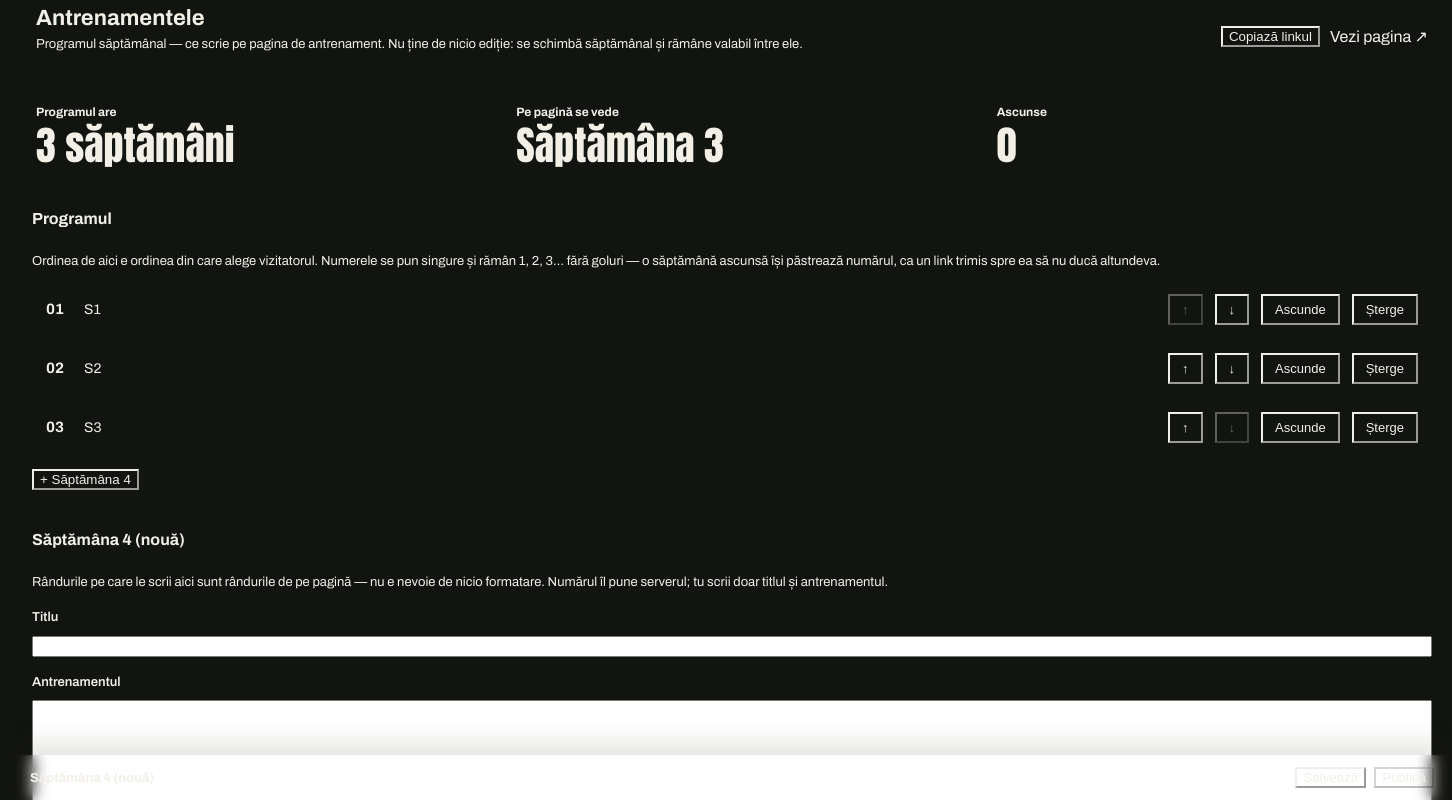
Scenario: editarea unei săptămâni › apăsarea pe o săptămână o pune în editor
Step 1. Click the button "S2" → (93, 368), box [84,355,1156,382]
(page scrolled)
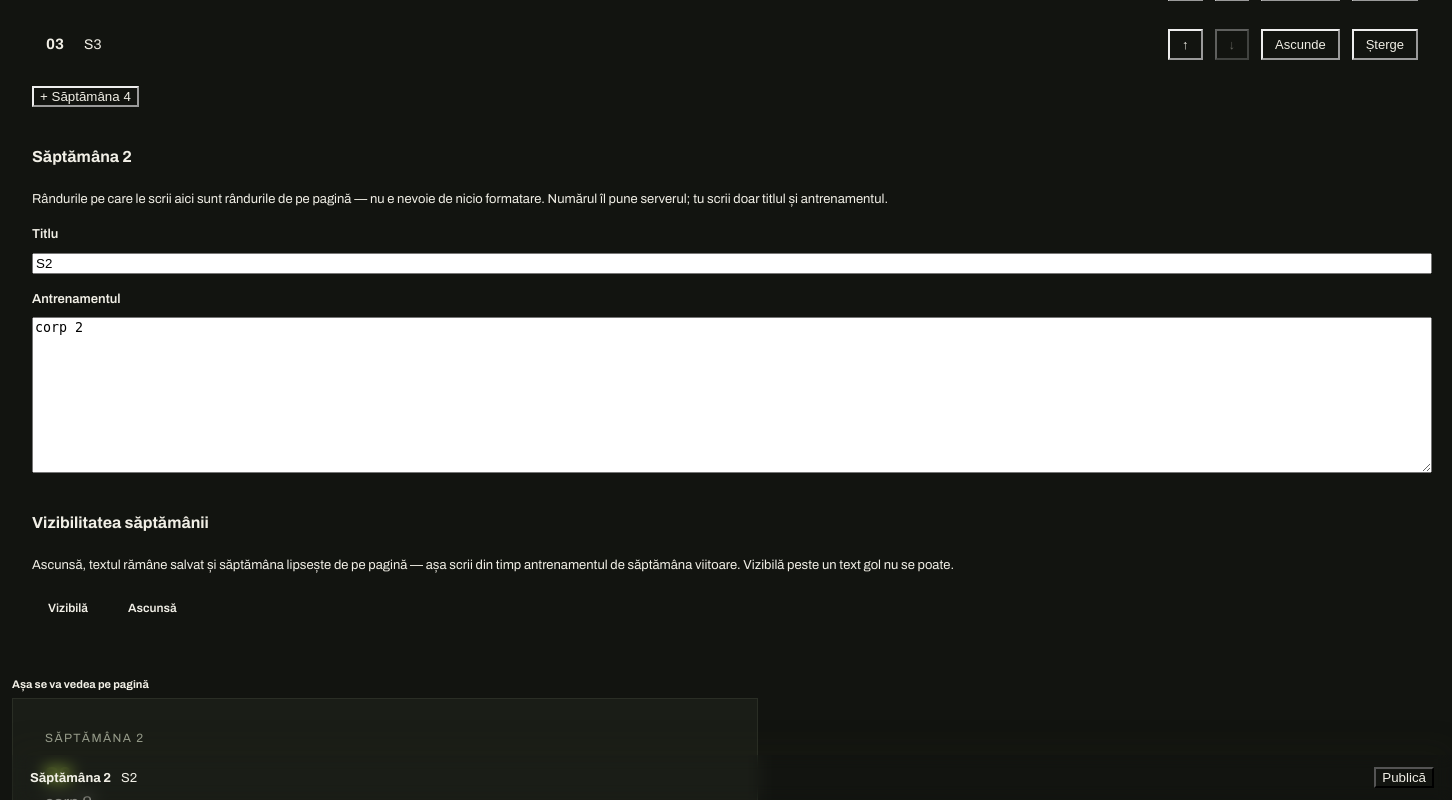
Expected: the field labelled "Titlu" holds "S2", [32,253,1432,274]
Expected: the text box labelled "Antrenamentul" holds "corp 2", [32,317,1432,473]
